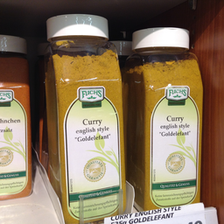spices: (45, 14, 127, 222), (130, 25, 204, 211), (1, 34, 34, 201)
